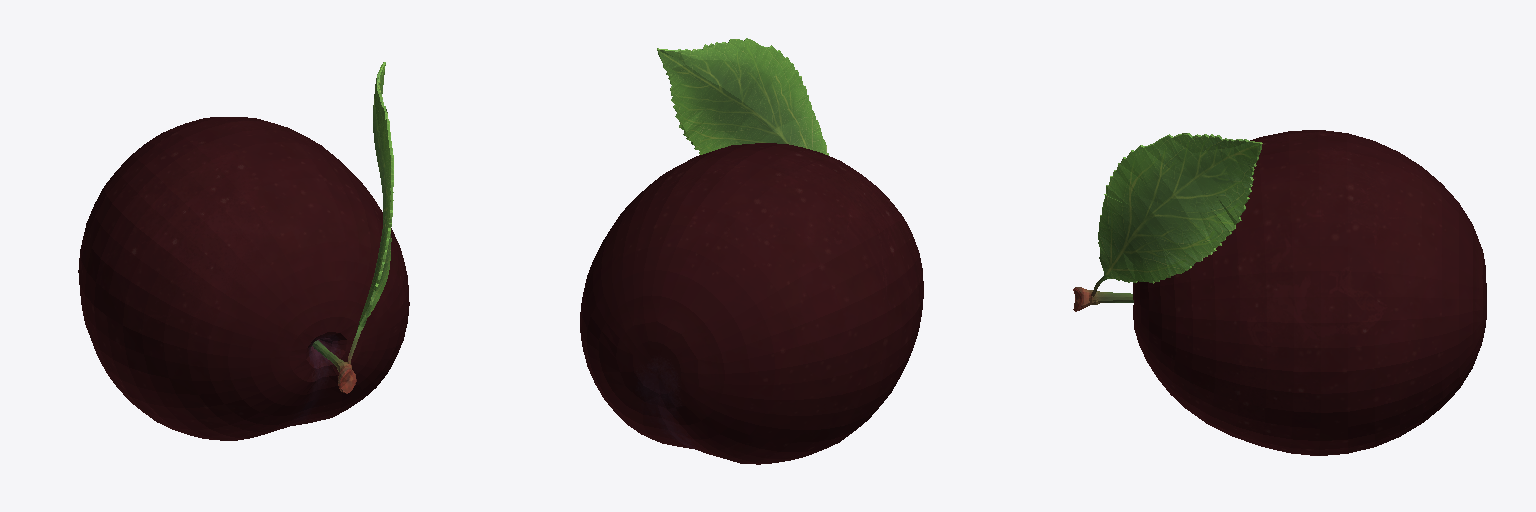
The picture shows the model from 3 angles: view 1: azimuth 30°, elevation 25°; view 2: azimuth 150°, elevation 25°; view 3: azimuth 270°, elevation 25°; orthographic projection.
Visible parts, largest first — view 1: Object.1; view 2: Object.1; view 3: Object.1.
Boxes of the visible parts, box(x1,y1,x2,y2) form: Object.1: box(78, 62, 409, 440); Object.1: box(580, 38, 923, 464); Object.1: box(1073, 130, 1486, 455).
Size of the model in its own units: 146 by 170 by 185.
1 materials, 1 textured.